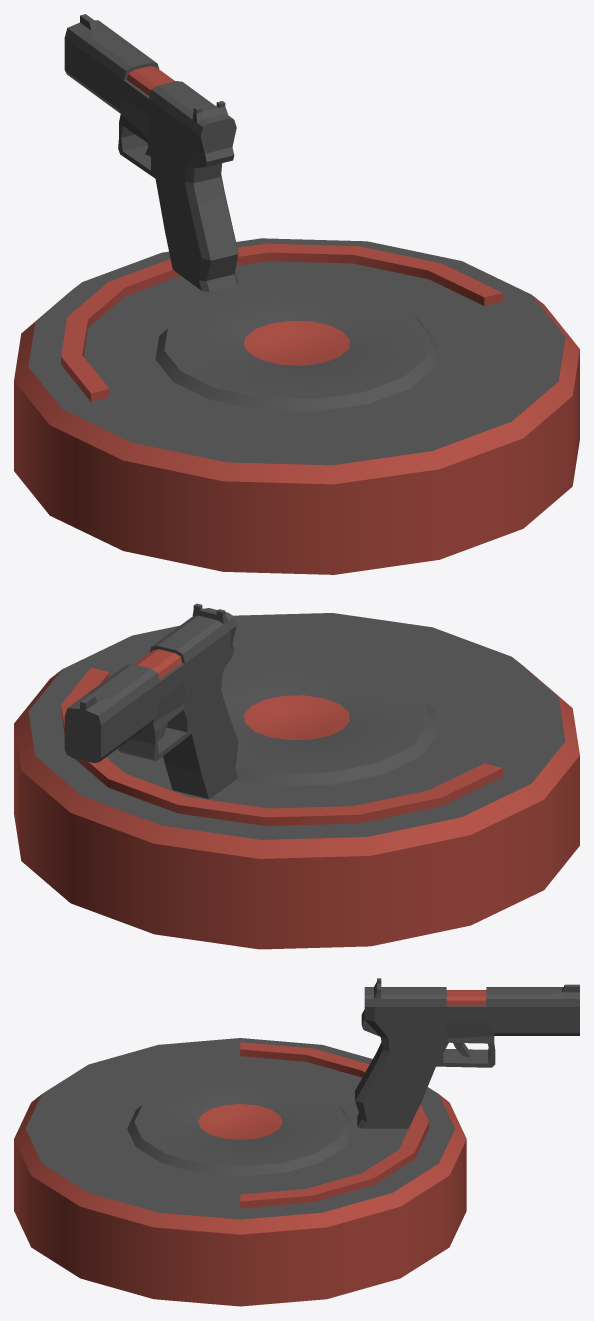
File: roomba.fbx
3 renders of one model, top to bottom at view 1: azimuth 30°, elevation 25°; view 2: azimuth 150°, elevation 25°; view 3: azimuth 270°, elevation 25°, orthographic. The views are drawn at different scales.
Visible parts, largest first — view 1: roomba; view 2: roomba; view 3: roomba.
Part boxes in pixels (x1=…): roomba: x1=14, y1=14, x2=579, y2=574; roomba: x1=14, y1=603, x2=579, y2=949; roomba: x1=14, y1=978, x2=579, y2=1306.
Bounding box in the file's own units: 6 × 3.32 × 7.5.
